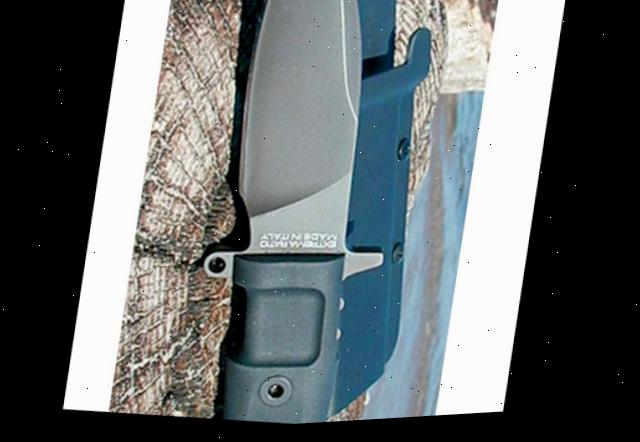pocket-knife: (203, 0, 397, 432)
